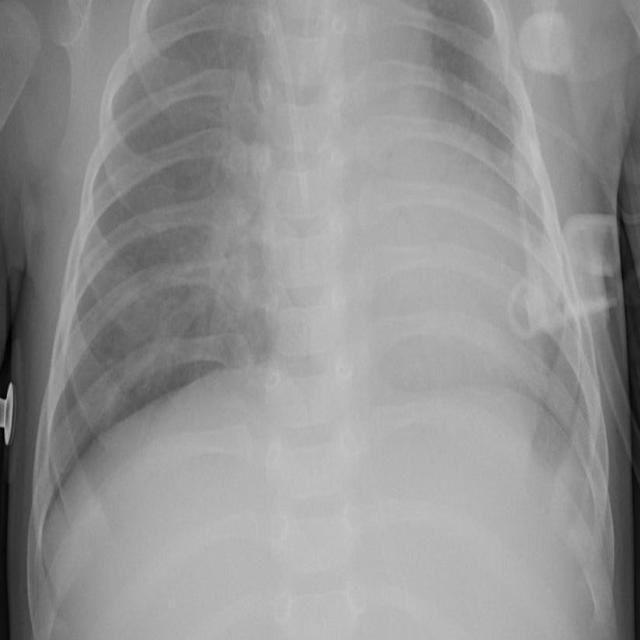high-pneumonia: (176, 64, 271, 354)
low-pneumonia: (429, 37, 539, 232)
